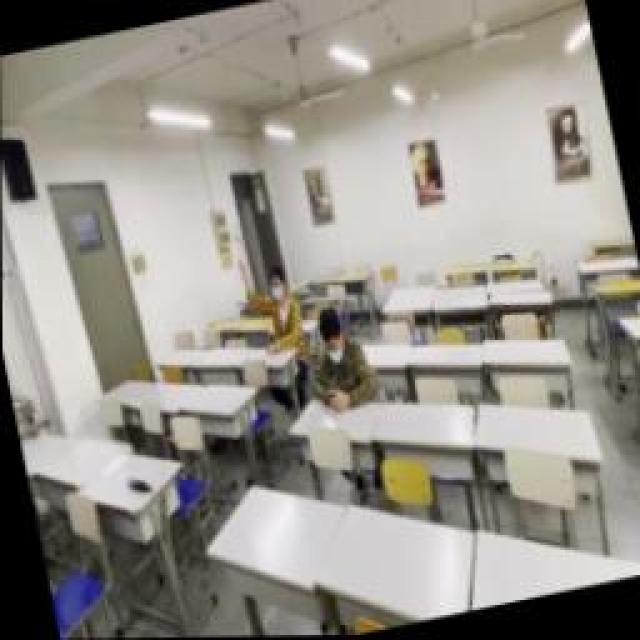phone: (303, 303, 375, 415)
study: (235, 250, 307, 355)
